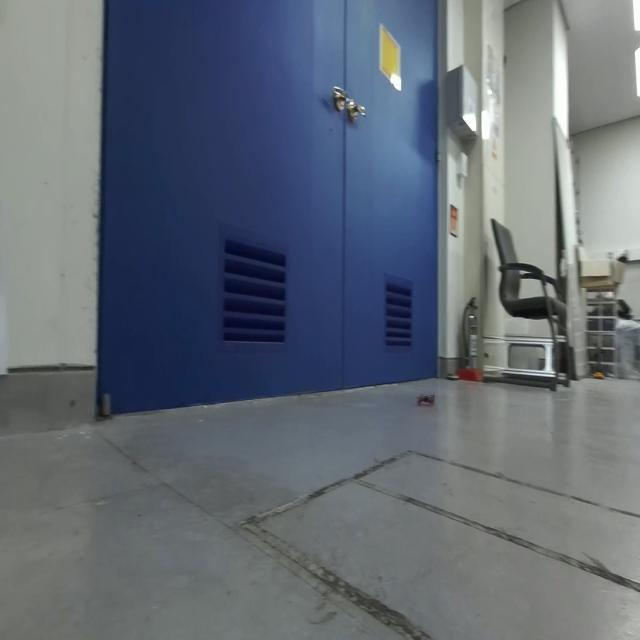crazyflie: (413, 389, 435, 414)
